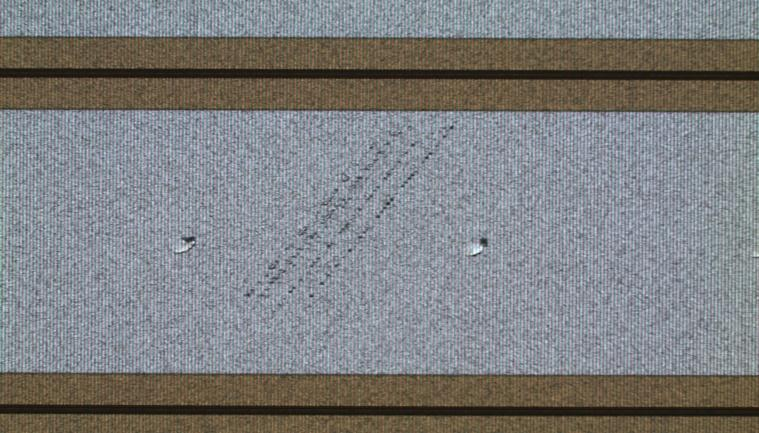SCRATCH: (228, 1, 570, 317)
